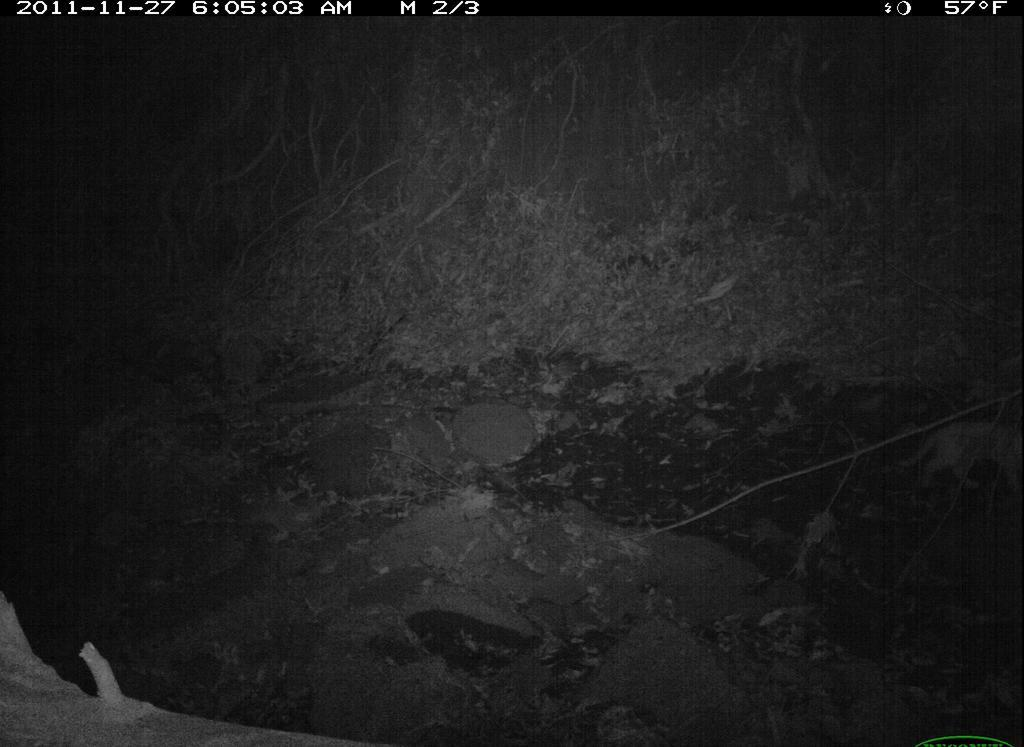cat: (891, 404, 1023, 506)
